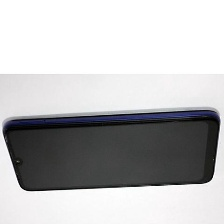phone: (0, 106, 224, 194)
